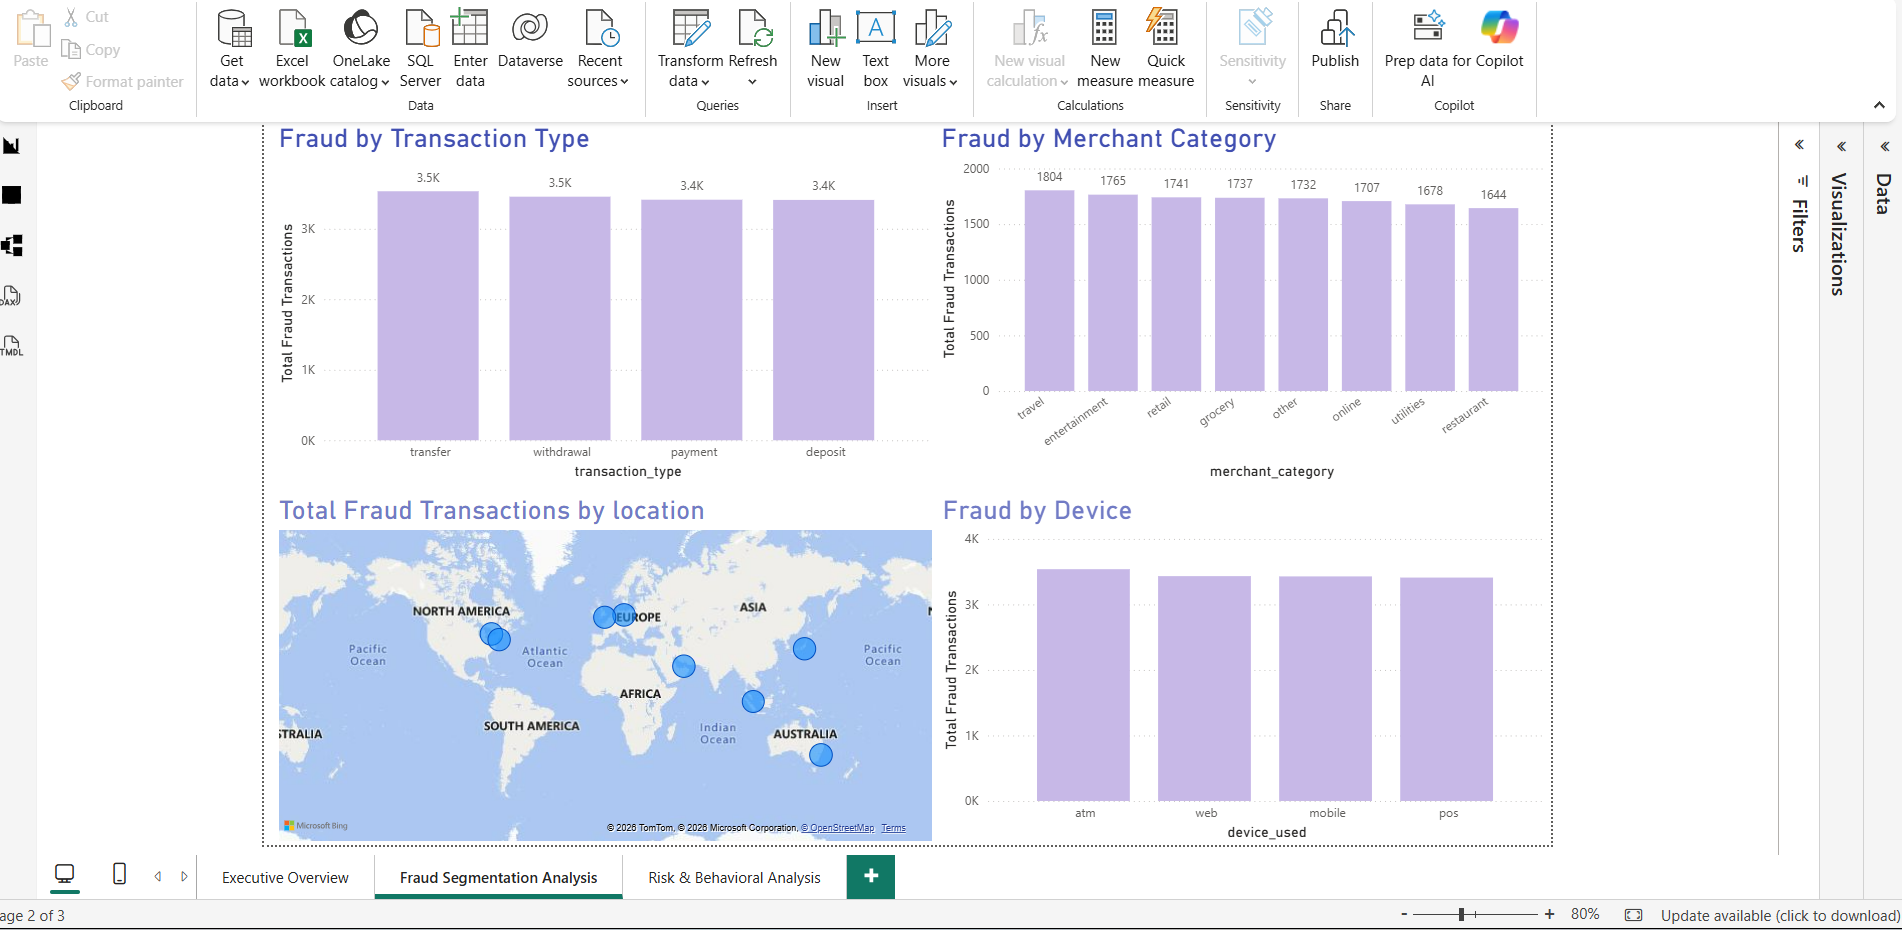

The page's visual inventory and layout, read from the dashboard file:
{"tool":"powerbi","page":{"name":"Fraud Segmentation Analysis","canvas":[1280,720],"ordinal":1},"visuals":[{"type":"clusteredColumnChart","title":"Fraud by Transaction Type","fields":{"Category":["financial_fraud_detection_dataset.transaction_type"],"Y":["financial_fraud_detection_dataset.Total Fraud Transactions"]},"box":[10.3,0,659.4,360.7],"z":0},{"type":"clusteredColumnChart","title":"Fraud by Merchant Category","fields":{"Category":["financial_fraud_detection_dataset.merchant_category"],"Y":["financial_fraud_detection_dataset.Total Fraud Transactions"]},"box":[669.7,0,610.6,360.7],"z":1},{"type":"map","fields":{"Category":["financial_fraud_detection_dataset.location"],"Size":["financial_fraud_detection_dataset.Total Fraud Transactions"]},"box":[10,371,659,349],"z":2},{"type":"clusteredColumnChart","title":"Fraud by Device","fields":{"Category":["financial_fraud_detection_dataset.device_used"],"Y":["financial_fraud_detection_dataset.Total Fraud Transactions"]},"box":[670,371,610,349],"z":3}]}

Visuals, with their boxes on the page's 1280x720 design canvas (x1, y1, x2, y2). These are canvas units, not pixel positions in the 1902x930 screenshot, which may show the page scaled, cropped or inside an application window:
"Fraud by Transaction Type" clusteredColumnChart: {"left": 10, "top": 0, "right": 670, "bottom": 361}
"Fraud by Merchant Category" clusteredColumnChart: {"left": 670, "top": 0, "right": 1280, "bottom": 361}
map - financial_fraud_detection_dataset.location x financial_fraud_detection_dataset.Total Fraud Transactions: {"left": 10, "top": 371, "right": 669, "bottom": 720}
"Fraud by Device" clusteredColumnChart: {"left": 670, "top": 371, "right": 1280, "bottom": 720}
